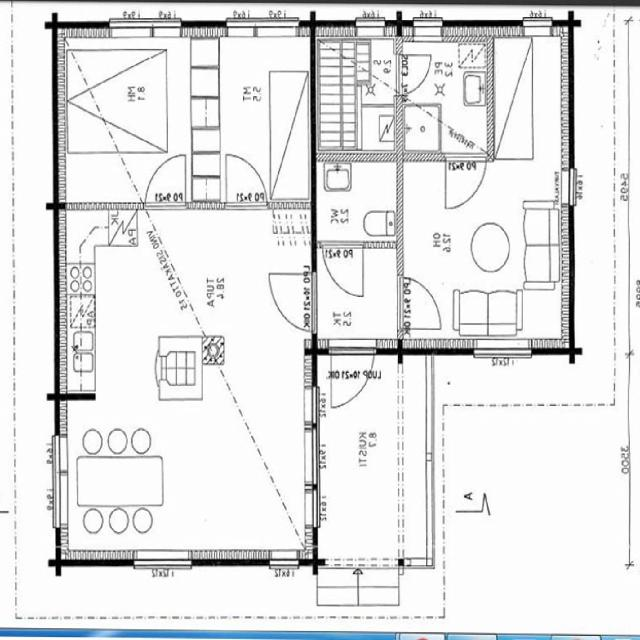door: (330, 338, 374, 410), (267, 274, 317, 330), (324, 241, 364, 300), (446, 152, 485, 212), (146, 151, 186, 209), (397, 278, 441, 328), (227, 153, 266, 209), (394, 55, 432, 94)
